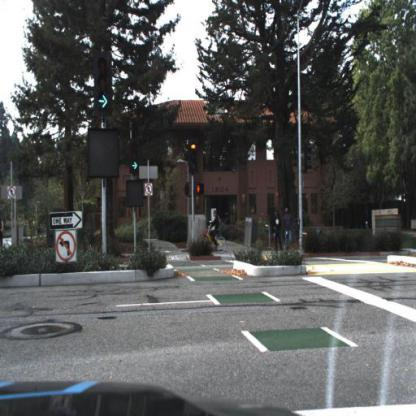biker: (201, 208, 229, 259)
pedestrian: (282, 204, 299, 255), (272, 205, 284, 254), (273, 209, 282, 256), (284, 208, 293, 251)
trafficLight: (130, 141, 139, 179)
trafficLight-Red: (191, 138, 199, 174)
